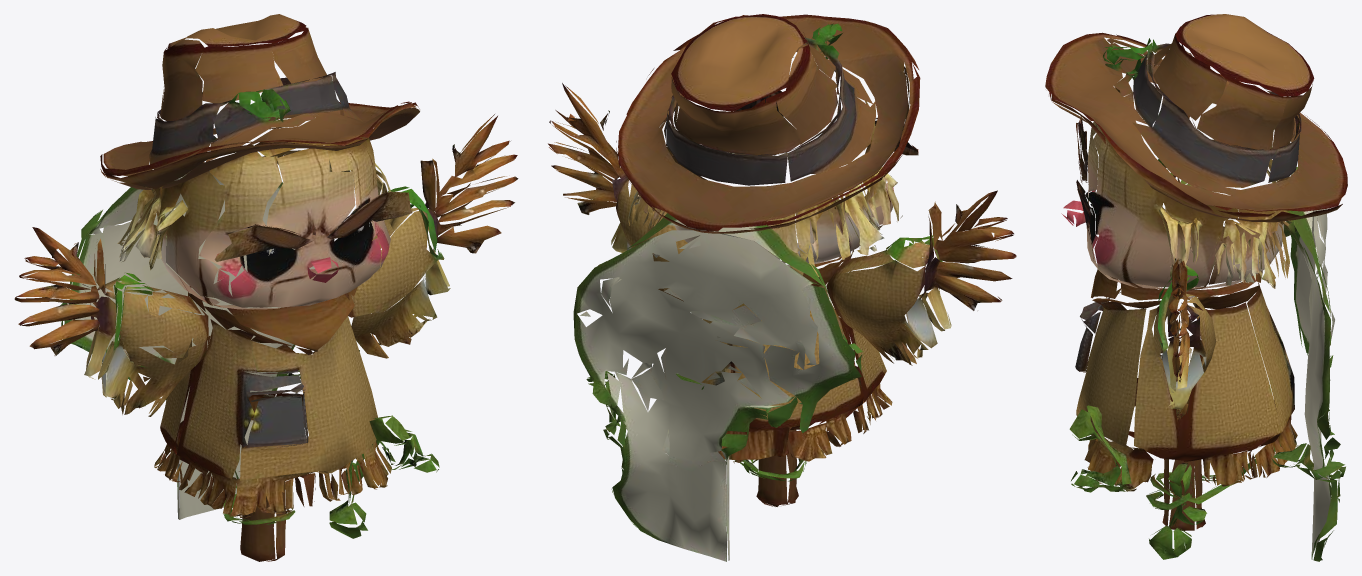
Rendered from korkuluk.glb.
3 renders of one model, left to right at view 1: azimuth 30°, elevation 25°; view 2: azimuth 150°, elevation 25°; view 3: azimuth 270°, elevation 25°, orthographic. The views are drawn at different scales.
Parts seen in each view (by area): view 1: geometry_0; view 2: geometry_0; view 3: geometry_0.
Part boxes in pixels (<box>): geometry_0: <box>14,14,518,561</box>; geometry_0: <box>548,14,1016,561</box>; geometry_0: <box>1045,14,1347,561</box>.
Size of the model in its own units: 0.9961 by 0.9974 by 0.5401.
Materials: 1 (1 with a texture image).
